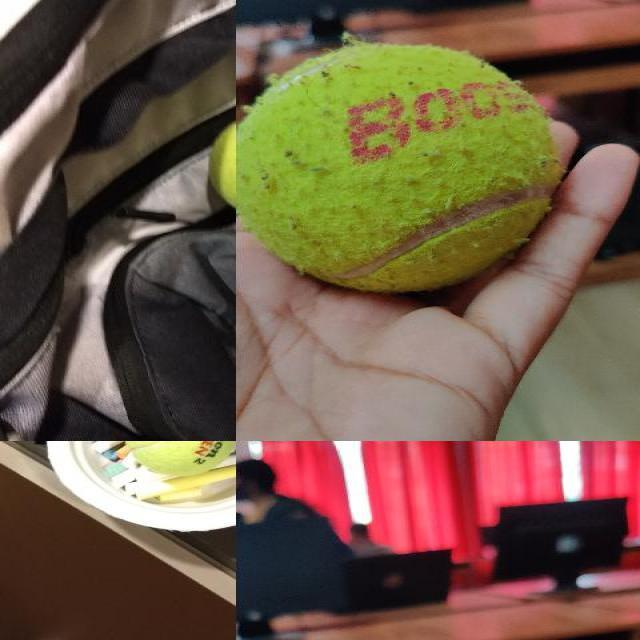tennis-ball: (236, 44, 562, 292), (124, 441, 234, 477)
